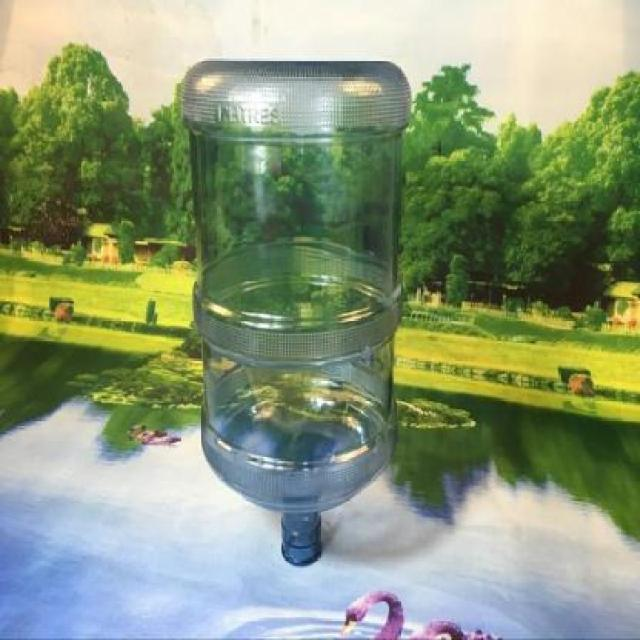coolerbottle: (177, 52, 418, 572)
